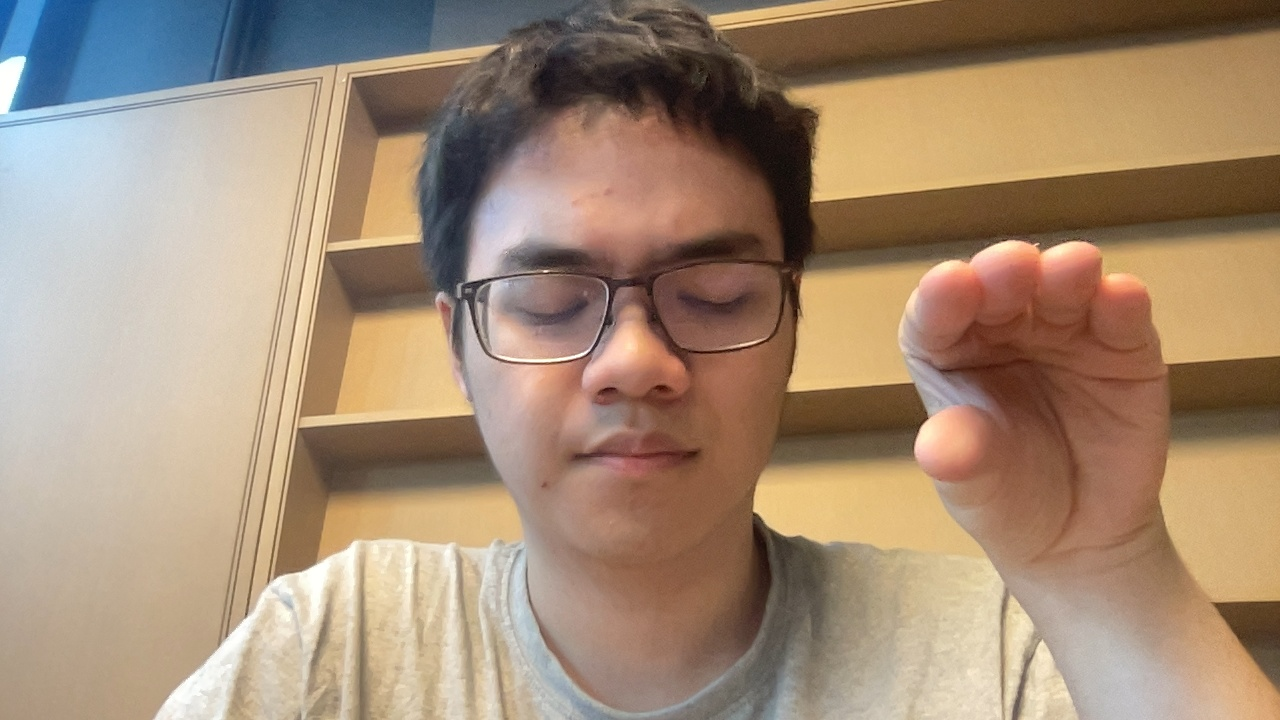no: (864, 203, 1218, 585)
